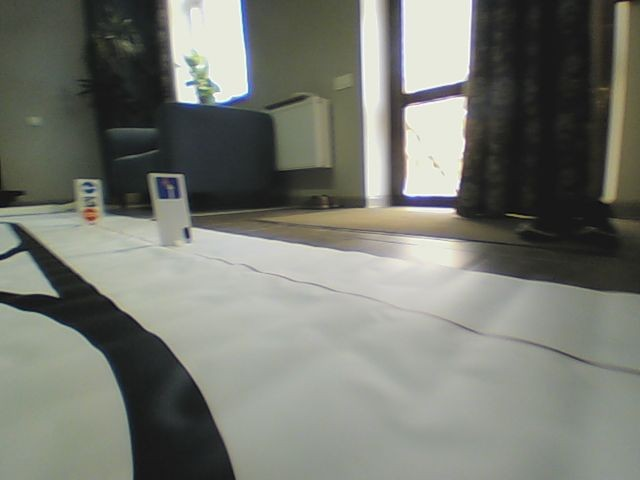priority_movement: (150, 175, 182, 201)
